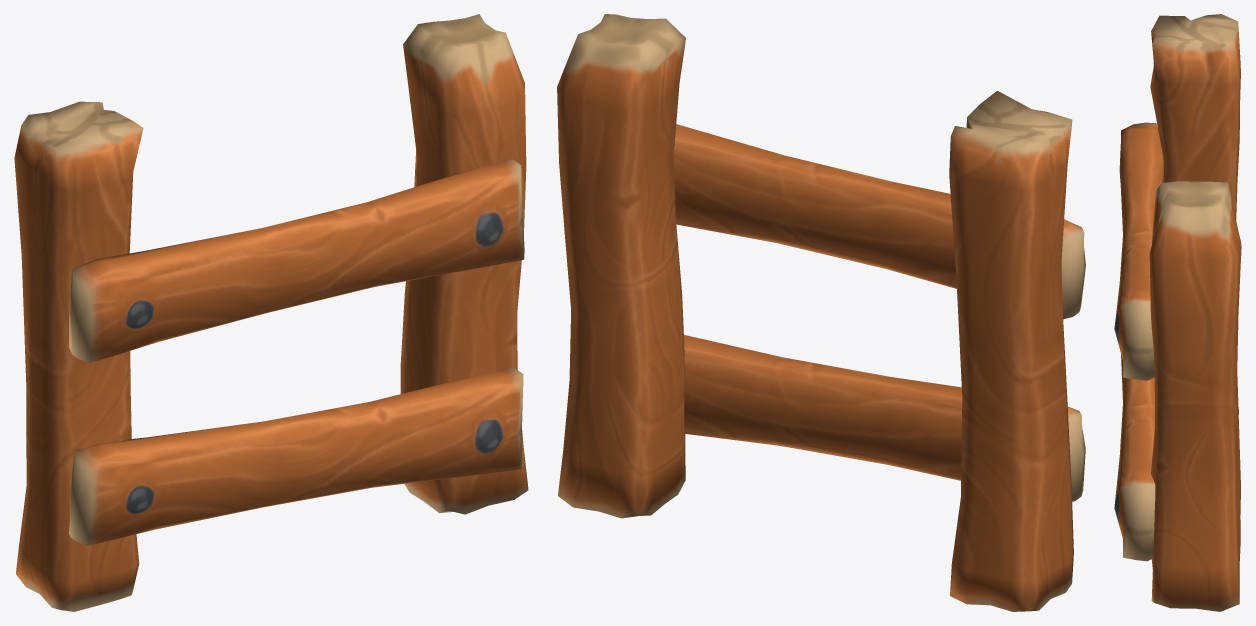
The model's file is fance1.fbx.
3 views of the same model, side by side, from view 1: azimuth 30°, elevation 25°; view 2: azimuth 150°, elevation 25°; view 3: azimuth 270°, elevation 25° (orthographic). The views are drawn at different scales.
Parts seen in each view (by area): view 1: Retopo_Cube.006; view 2: Retopo_Cube.006; view 3: Retopo_Cube.006.
Part boxes in pixels (bbox=[...]): Retopo_Cube.006: bbox=[14, 14, 528, 611]; Retopo_Cube.006: bbox=[557, 14, 1085, 611]; Retopo_Cube.006: bbox=[1114, 14, 1241, 611].
Size of the model in its own units: 533 by 504 by 142.
